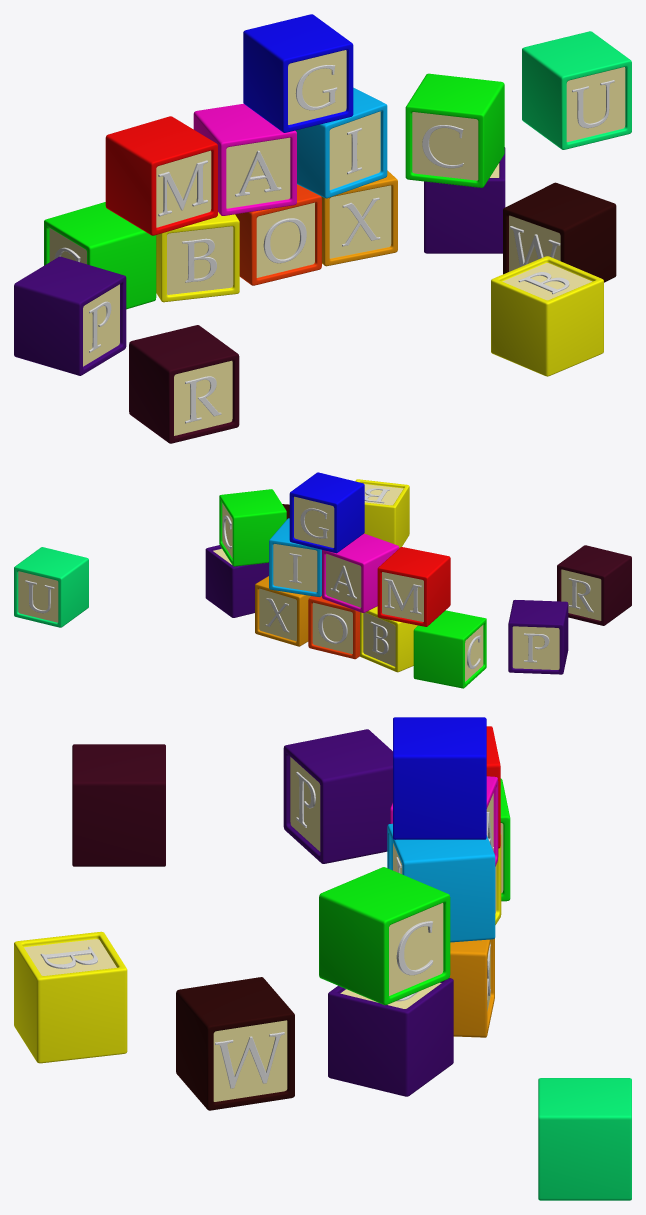
The model's file is toys_fbx.FBX.
3 views of the same model, one above another, from view 1: azimuth 30°, elevation 25°; view 2: azimuth 150°, elevation 25°; view 3: azimuth 270°, elevation 25° (orthographic). The views are drawn at different scales.
Visible parts, largest first — view 1: Box014, Box009, Box001, Box010, Box003, Box012, Box011, Box005, Box015, Box013, Box002, Box004 (+25 smaller); view 2: Box015, Box005, Box003, Box012, Box010, Box001, Box013, Box002, Box009, Box014, Plane018, Plane008 (+19 smaller); view 3: Box012, Box010, Box003, Box013, Box014, Box005, Box009, Box011, Box004, Plane021, Box008, Plane010 (+6 smaller).
Part boxes in pixels (x1,y1,x2,y2): Box014: [491, 256, 603, 376]; Box009: [14, 256, 126, 375]; Box001: [105, 116, 217, 235]; Box010: [129, 325, 239, 443]; Box003: [243, 14, 353, 132]; Box012: [522, 31, 631, 149]; Box011: [503, 182, 616, 282]; Box005: [405, 73, 504, 187]; Box015: [44, 202, 156, 309]; Box013: [424, 147, 505, 253]; Box002: [193, 103, 296, 215]; Box004: [295, 87, 387, 198]; Box015: [413, 610, 486, 688]; Box005: [219, 489, 286, 566]; Box003: [289, 472, 364, 553]; Box012: [14, 547, 88, 627]; Box010: [557, 545, 631, 625]; Box001: [377, 547, 450, 626]; Box013: [205, 545, 268, 617]; Box002: [322, 533, 399, 612]; Box009: [508, 600, 568, 674]; Box014: [355, 479, 409, 547]; Plane018: [512, 626, 559, 669]; Plane008: [273, 544, 317, 592]; Box012: [538, 1078, 631, 1200]; Box010: [72, 744, 165, 866]; Box003: [393, 717, 486, 839]; Box013: [328, 978, 453, 1096]; Box014: [14, 931, 127, 1063]; Box005: [319, 867, 450, 1005]; Box009: [283, 729, 392, 863]; Box011: [176, 977, 294, 1110]; Box004: [387, 823, 495, 942]; Plane021: [213, 1020, 287, 1101]; Box008: [449, 938, 494, 1037]; Plane010: [389, 903, 443, 995].
Bounding box in the file's own units: 55.96 × 17.06 × 37.59.
